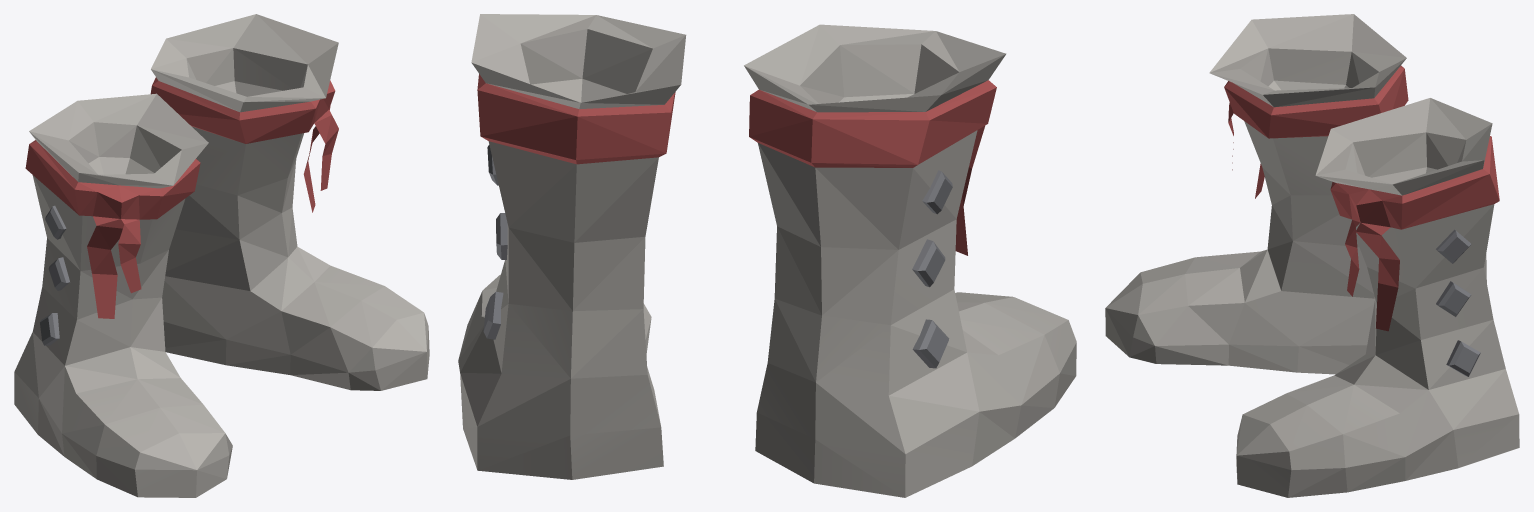
The model's file is bootsClothDisplay.fbx.
3 views of the same model, side by side, from view 1: azimuth 30°, elevation 25°; view 2: azimuth 150°, elevation 25°; view 3: azimuth 270°, elevation 25° (orthographic). The views are drawn at different scales.
Visible parts, largest first — view 1: bootsClothDisplay; view 2: bootsClothDisplay; view 3: bootsClothDisplay.
Part boxes in pixels (x1=…): bootsClothDisplay: x1=14, y1=14, x2=429, y2=497; bootsClothDisplay: x1=458, y1=14, x2=1076, y2=497; bootsClothDisplay: x1=1105, y1=14, x2=1519, y2=497.
Size of the model in its own units: 1.51 by 1.09 by 1.37.
